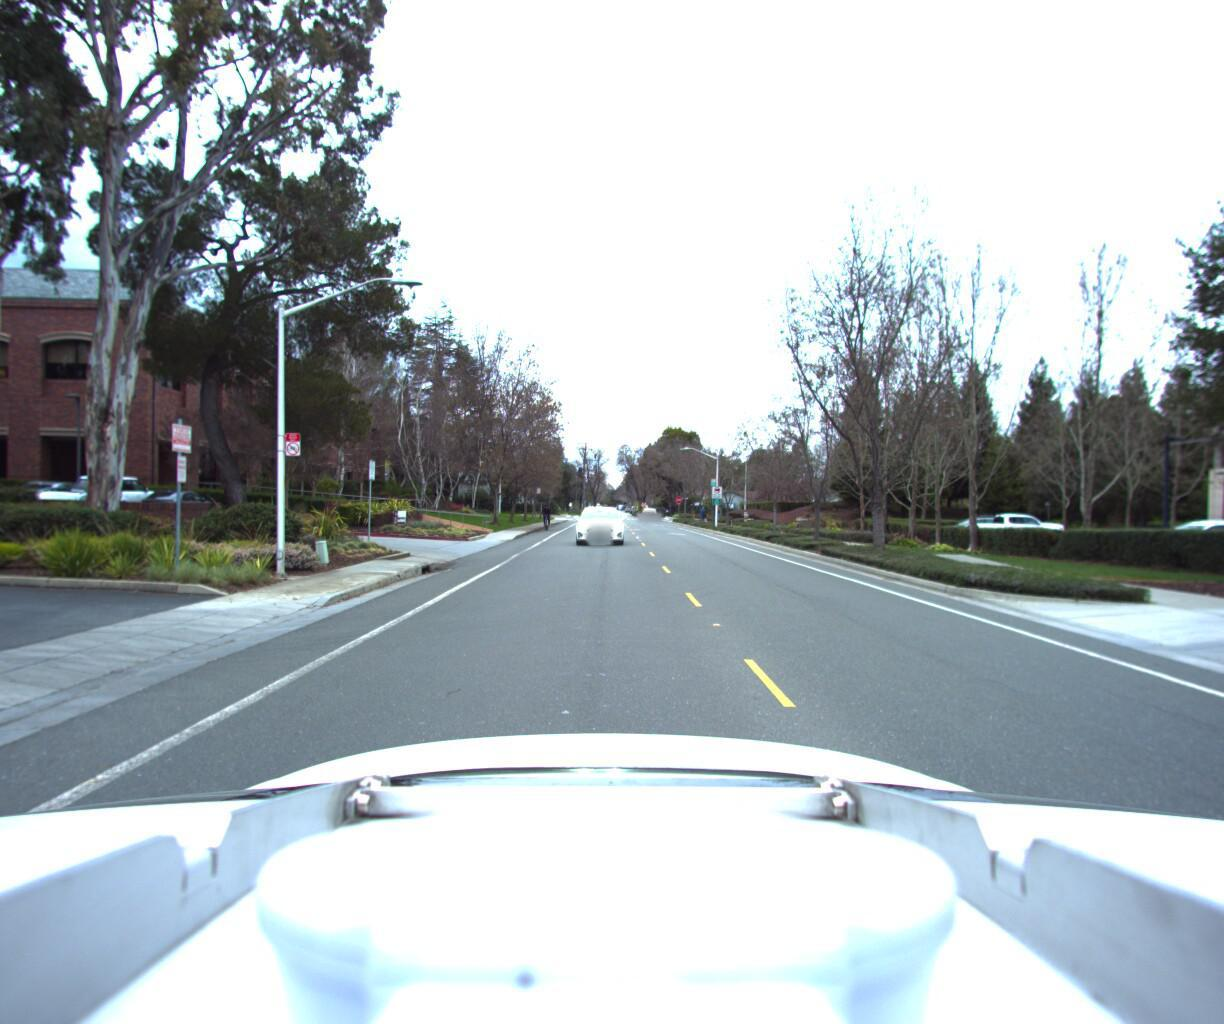bicycle: (540, 502, 554, 531)
car: (574, 507, 625, 549)
